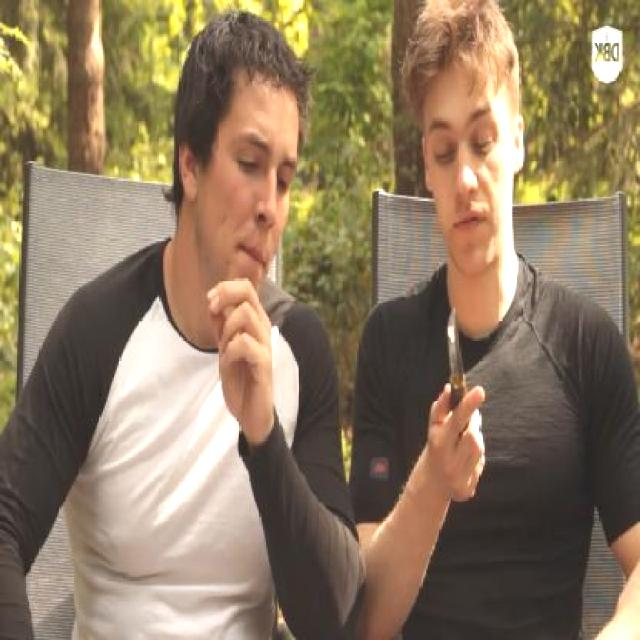knife: (423, 283, 499, 471)
